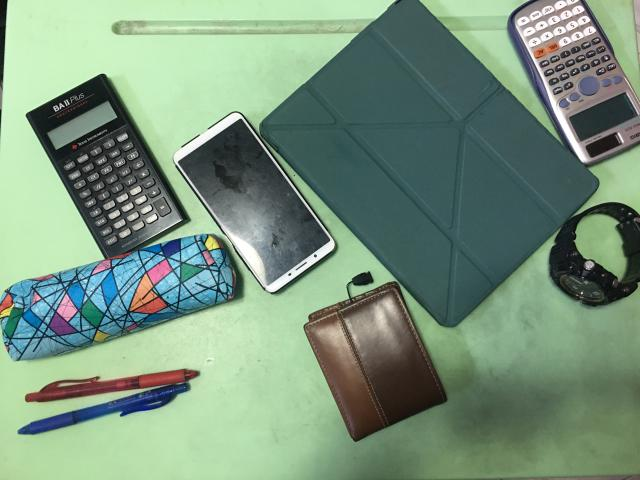Pen: (18, 371, 197, 437)
Wallet: (303, 283, 448, 443)
Watch: (548, 203, 640, 309)
